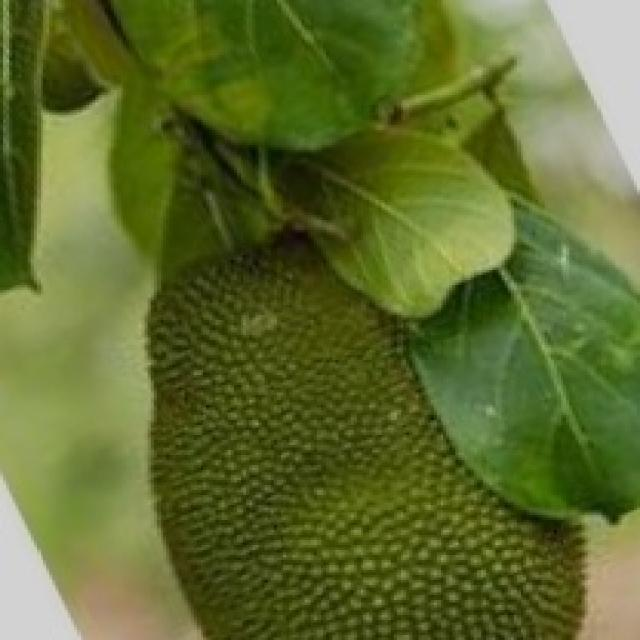Fruit: (101, 195, 532, 637)
